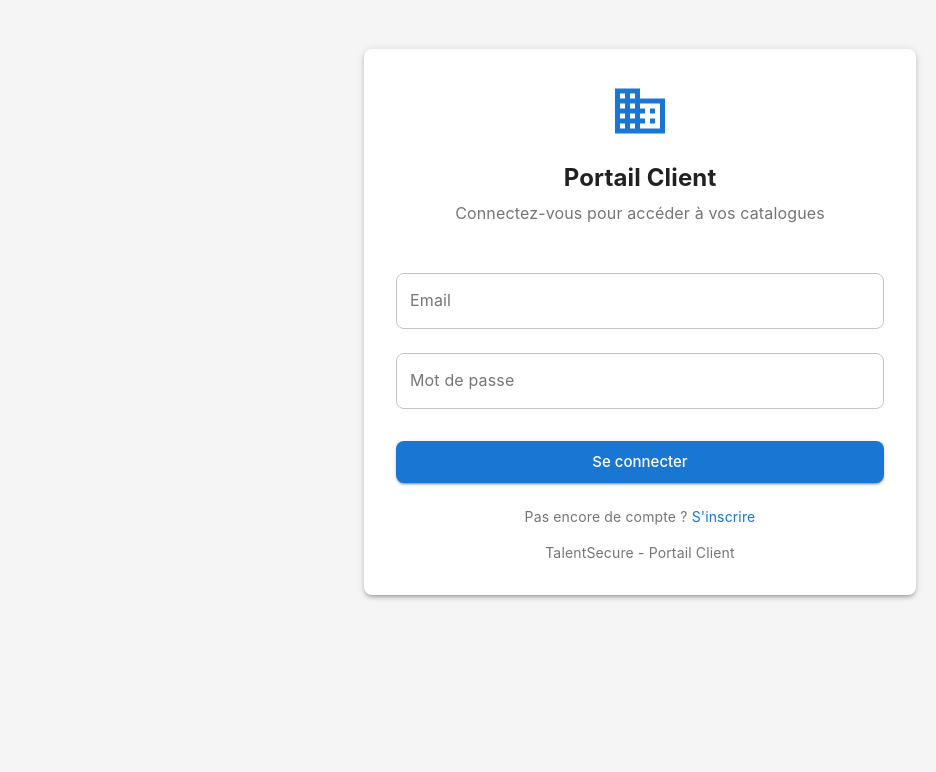
Test: ClientLoginPage › échec → affiche le message d'erreur de l'API et ne navigue pas
Type "rh@acme.com" into the field labelled "Email" at (640, 301), box [396,273,884,329]
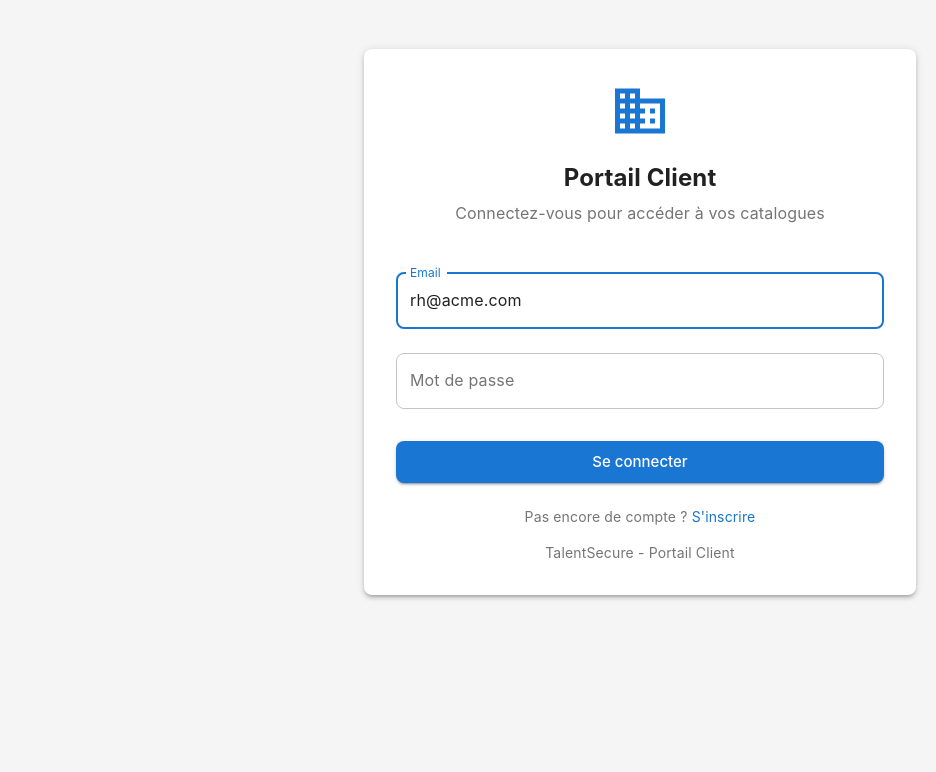
Type "mauvais" into the password field labelled "Mot de passe" at (640, 381), box [396,353,884,409]
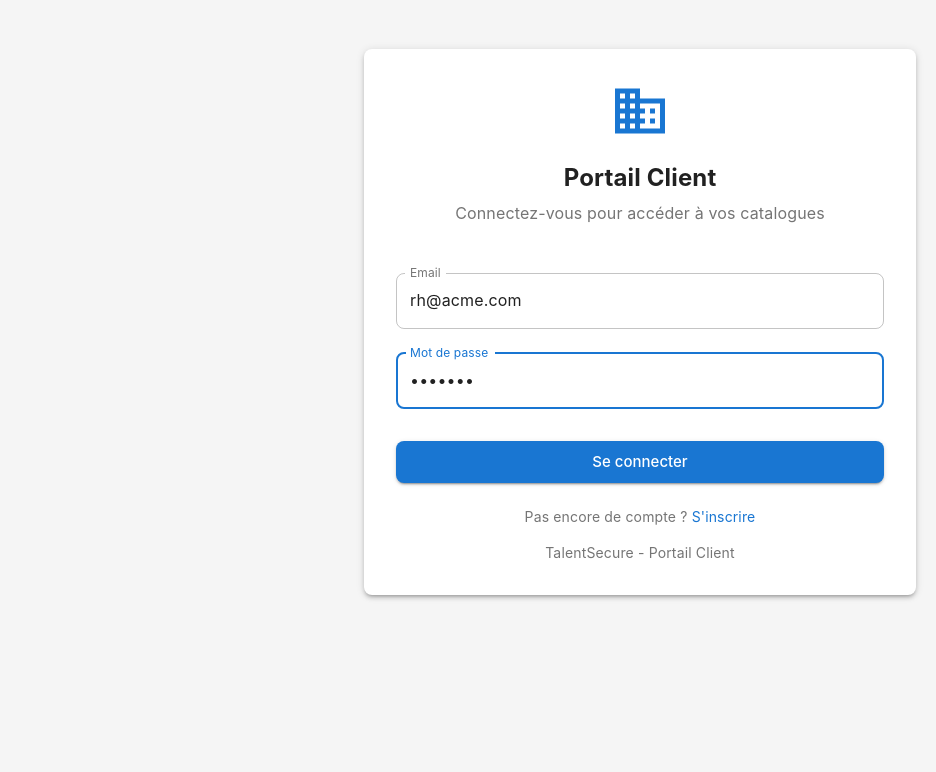
Click the button "Se connecter" at (640, 462), box [396,441,884,483]
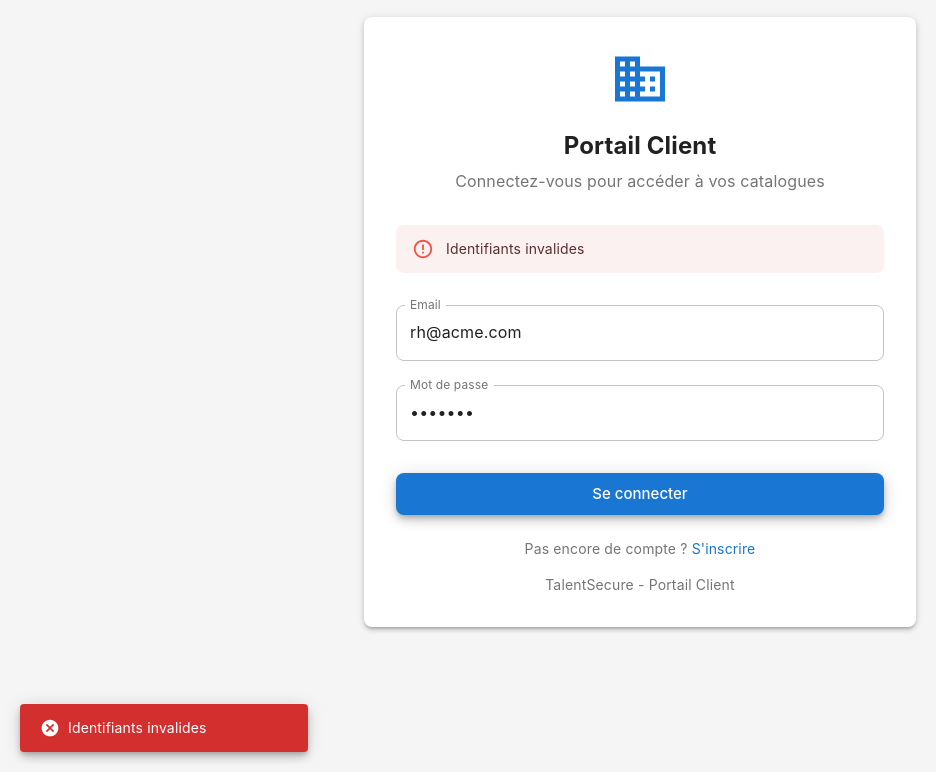
Now the text "Identifiants invalides" is shown, box [446,240,584,257]
